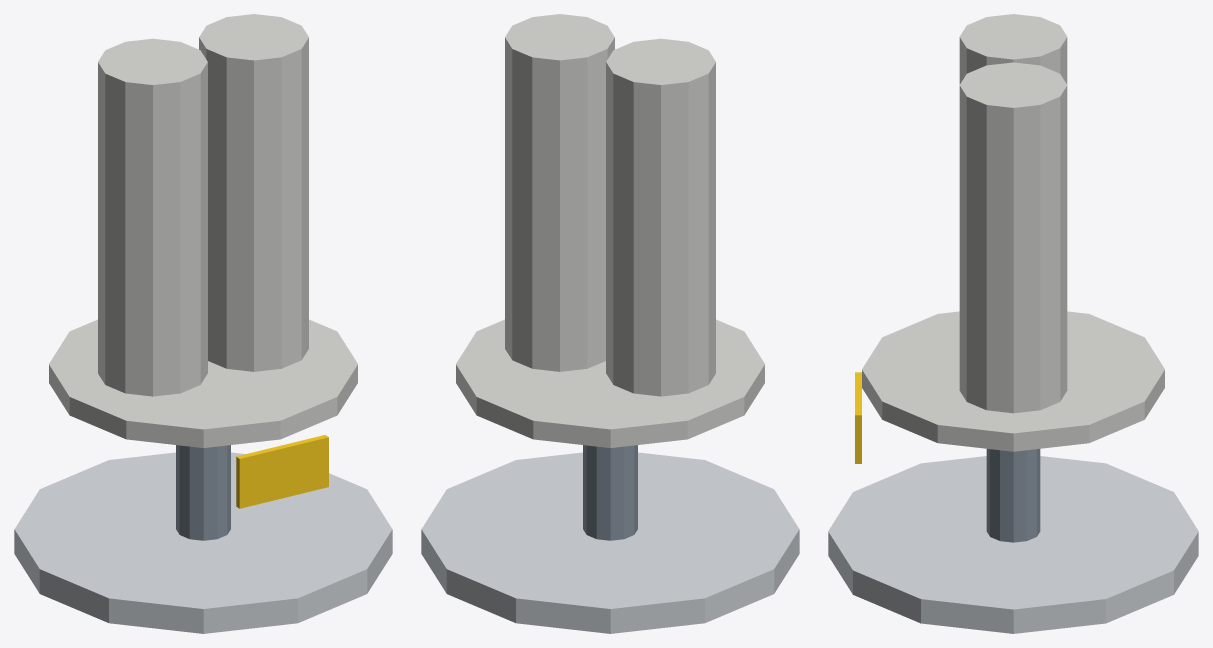
File: item-paper_towels.glb
3 renders of one model, left to right at view 1: azimuth 30°, elevation 25°; view 2: azimuth 150°, elevation 25°; view 3: azimuth 270°, elevation 25°, orthographic.
Parts seen in each view (by area): view 1: item-paper_towels; view 2: item-paper_towels; view 3: item-paper_towels.
Part boxes in pixels (bbox=[...]): item-paper_towels: bbox=[14, 14, 392, 633]; item-paper_towels: bbox=[421, 14, 799, 633]; item-paper_towels: bbox=[828, 14, 1198, 633].
Size of the model in its own units: 1.1 by 1.62 by 1.1.
